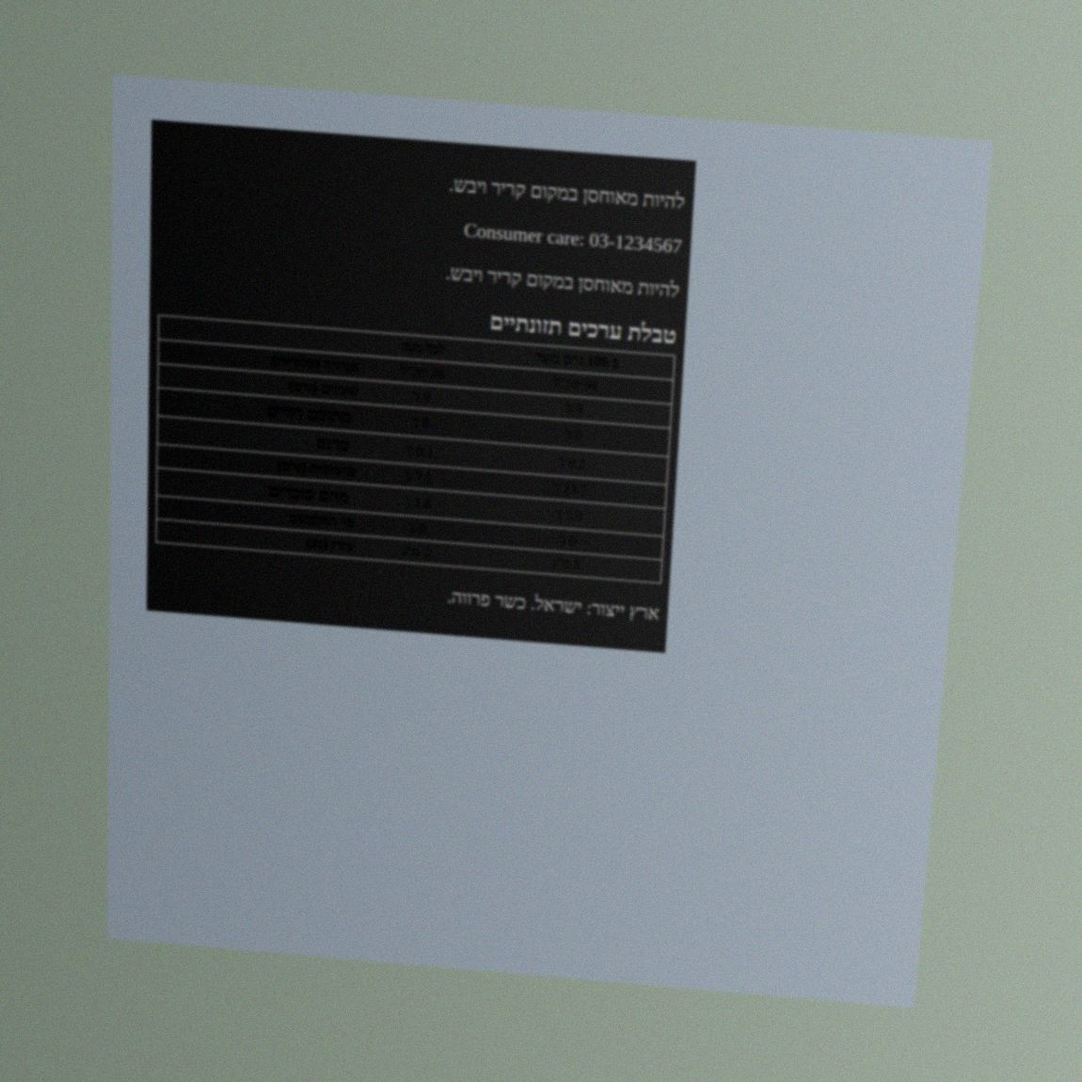carbs: (550, 478, 590, 500)
energy: (551, 372, 600, 396)
fat: (563, 398, 585, 418)
protein: (556, 530, 578, 550)
